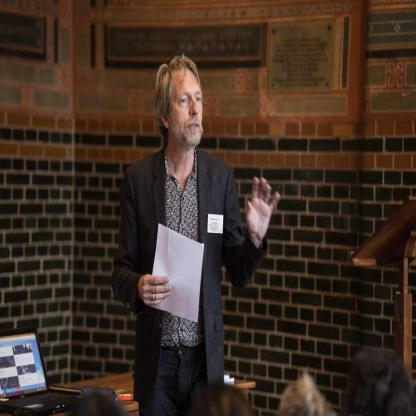board: (0, 328, 83, 416)
